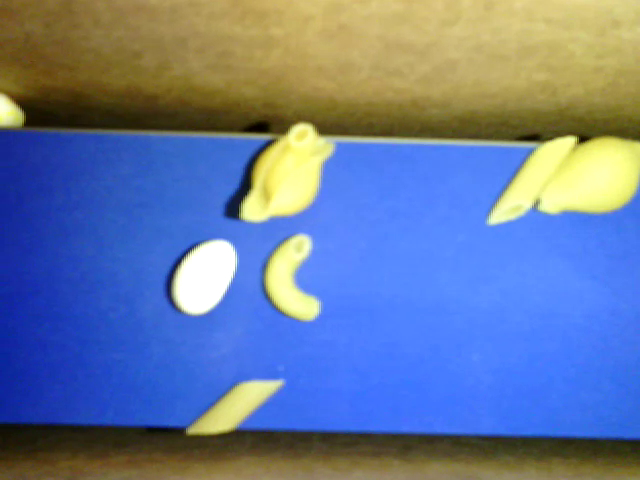elbow: (264, 232, 321, 322)
penne: (486, 133, 578, 225), (184, 379, 285, 434)
shell: (238, 122, 335, 222), (538, 136, 639, 215)
